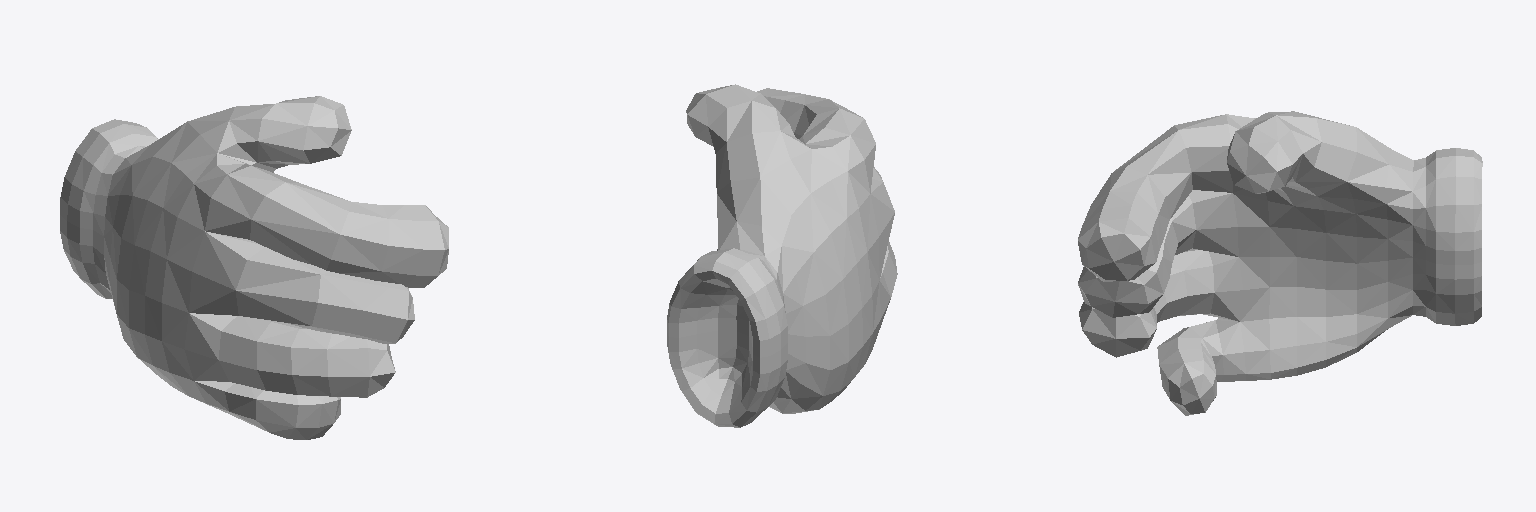
File: rightHand.obj
The picture shows the model from 3 angles: view 1: azimuth 30°, elevation 25°; view 2: azimuth 150°, elevation 25°; view 3: azimuth 270°, elevation 25°; orthographic projection.
Visible parts, largest first — view 1: Mesh.001_Box04; view 2: Mesh.001_Box04; view 3: Mesh.001_Box04.
Boxes of the visible parts, box(x1,y1,x2,y2) form: Mesh.001_Box04: box(60, 96, 448, 439); Mesh.001_Box04: box(667, 84, 897, 427); Mesh.001_Box04: box(1078, 111, 1482, 415).
Size of the model in its own units: 1.14 by 1.58 by 1.92.